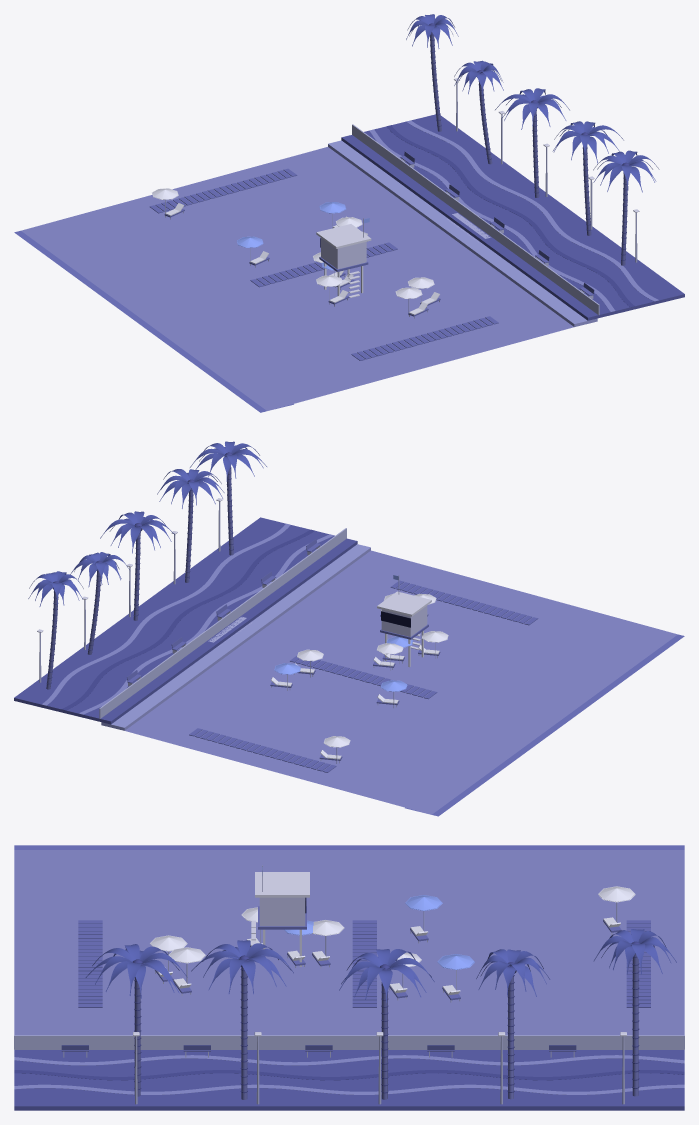
File: promenade.glb
3 renders of one model, top to bottom at view 1: azimuth 30°, elevation 25°; view 2: azimuth 150°, elevation 25°; view 3: azimuth 270°, elevation 25°, orthographic. The views are drawn at different scales.
Visible parts, largest first — view 1: baked80, baked0, baked4, baked78, baked3, baked1, lifeguard, baked6, baked83, baked81, baked2, baked7; view 2: baked80, baked0, baked4, baked78, baked3, baked1, lifeguard, baked6, baked81, baked83, baked2, baked7 (+1 smaller); view 3: baked80, baked0, baked3, baked4, baked1, baked6, baked81, lifeguard, baked83, baked2, baked7, baked82.
Part boxes in pixels (<box>): baked80: <box>21,147,573,410</box>; baked0: <box>341,114,684,320</box>; baked4: <box>149,151,594,360</box>; baked78: <box>328,140,597,326</box>; baked3: <box>165,81,637,318</box>; baked1: <box>369,120,658,311</box>; lifeguard: <box>316,218,371,297</box>; baked6: <box>430,32,627,265</box>; baked83: <box>152,188,439,314</box>; baked81: <box>14,230,293,412</box>; baked2: <box>386,125,634,307</box>; baked7: <box>429,23,629,260</box>; baked80: <box>125,550,677,814</box>; baked0: <box>14,517,357,724</box>; baked4: <box>127,538,538,772</box>; baked78: <box>101,544,370,730</box>; baked3: <box>39,501,437,763</box>; baked1: <box>42,523,334,714</box>; lifeguard: <box>377,575,431,667</box>; baked6: <box>46,466,233,689</box>; baked81: <box>405,634,684,816</box>; baked83: <box>271,593,448,759</box>; baked2: <box>61,529,314,710</box>; baked7: <box>46,452,233,684</box>; baked80: <box>14,850,684,1035</box>; baked0: <box>14,1050,684,1110</box>; baked3: <box>14,902,684,1104</box>; baked4: <box>61,919,650,1051</box>; baked1: <box>14,1055,684,1094</box>; baked6: <box>134,954,638,1099</box>; baked81: <box>14,845,684,849</box>; lifeguard: <box>251,865,309,966</box>; baked83: <box>150,886,635,995</box>; baked2: <box>14,1070,684,1080</box>; baked7: <box>133,941,639,1093</box>; baked82: <box>284,895,474,969</box>.
Bounding box in the file's own units: 45.62 × 12.57 × 44.06.
